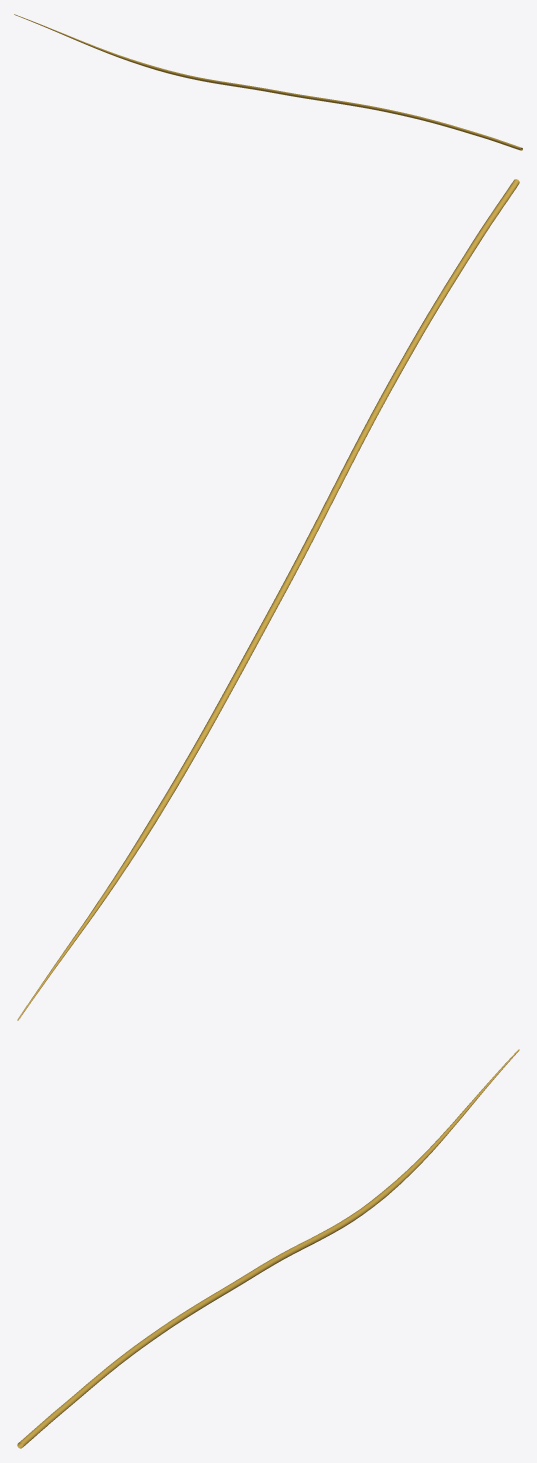
3 views of the same model, one above another, from view 1: azimuth 30°, elevation 25°; view 2: azimuth 150°, elevation 25°; view 3: azimuth 330°, elevation 25° (orthographic). The views are drawn at different scales.
Parts seen in each view (by area): view 1: 右侧前臂内侧皮神经前支; view 2: 右侧前臂内侧皮神经前支; view 3: 右侧前臂内侧皮神经前支.
Boxes of the visible parts, x1,y1,x2,y2 form: 右侧前臂内侧皮神经前支: [14, 14, 522, 150]; 右侧前臂内侧皮神经前支: [17, 179, 519, 1020]; 右侧前臂内侧皮神经前支: [17, 1049, 519, 1448].
Bounding box in the file's own units: 0.069 × 0.0567 × 0.3459.
